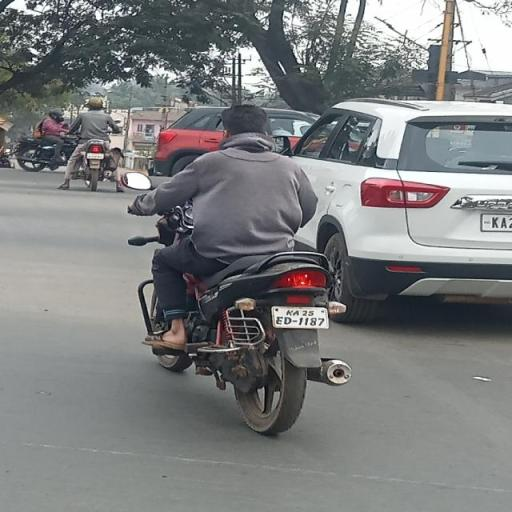bike: (114, 98, 362, 439)
numberplate: (272, 306, 328, 329)
withouthelmet: (220, 107, 266, 134)
